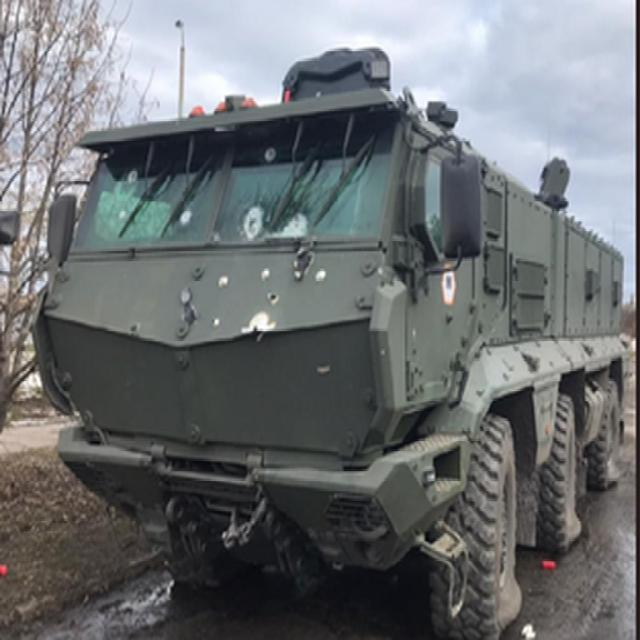TRUCK: (26, 34, 632, 636)
